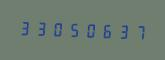five: (65, 19, 80, 39)
seven: (129, 21, 144, 42)
six: (97, 20, 112, 41)
three: (17, 17, 32, 38), (33, 18, 48, 38), (113, 21, 128, 41)
zero: (49, 18, 64, 39), (81, 19, 96, 40)
